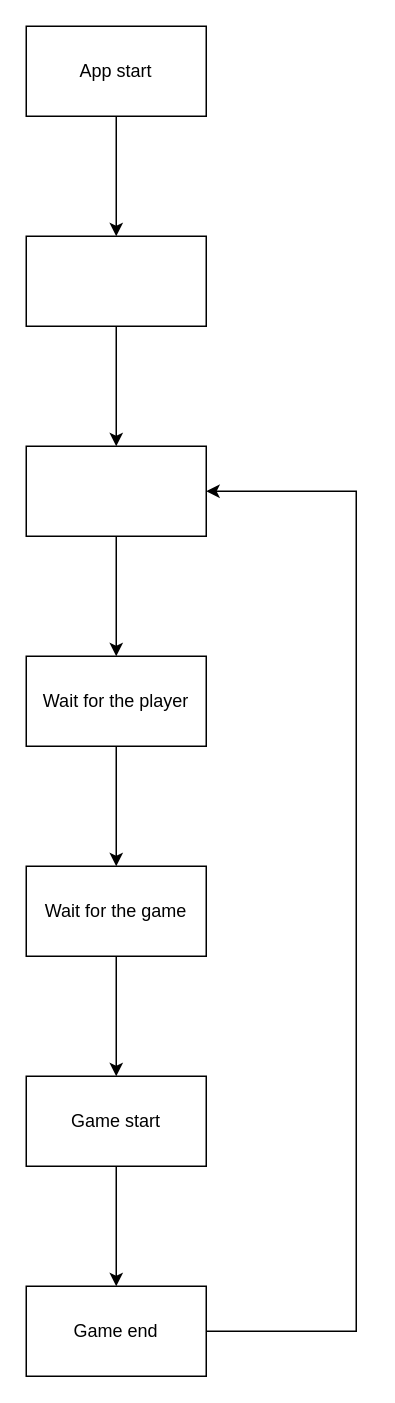
The diagram is 395 pixels wide and 1403 high, and some of its shapes have lost their labels. The centre of each missing label's shape, as x and y in pixels:
Lobby: (115,490)
Login: (115,280)
